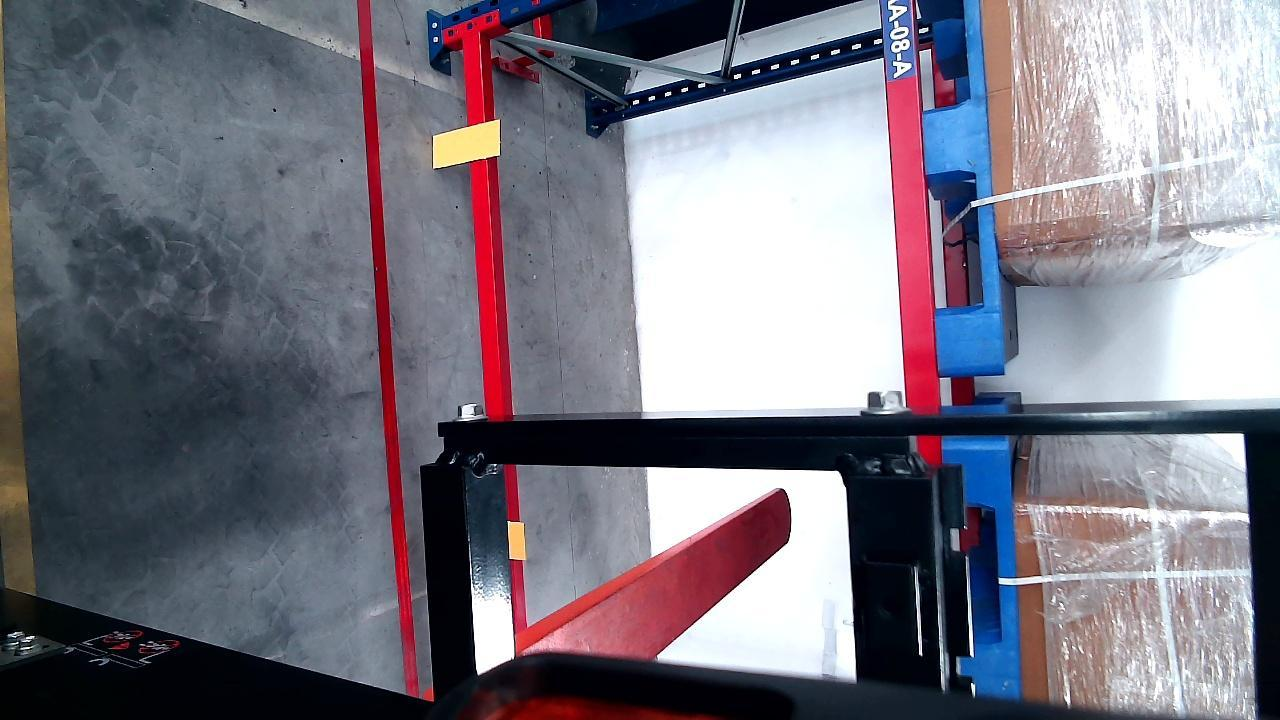red_line: (360, 1, 415, 688)
yellow_line: (3, 1, 41, 589)
